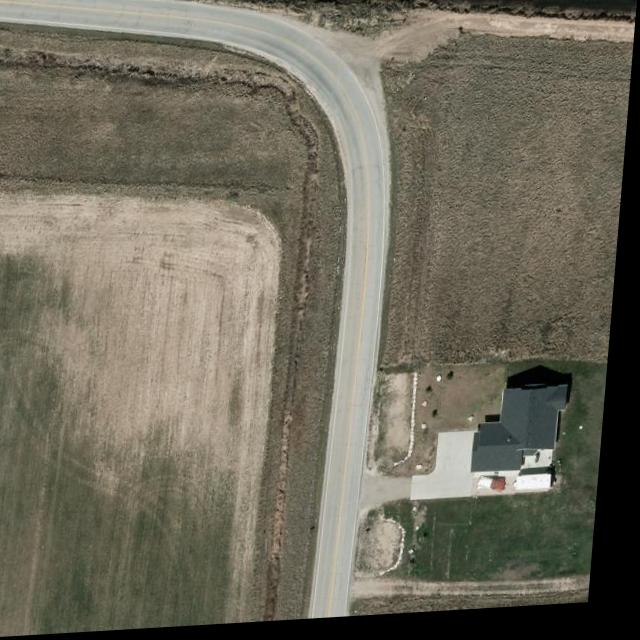vehicle: (485, 483, 517, 500)
